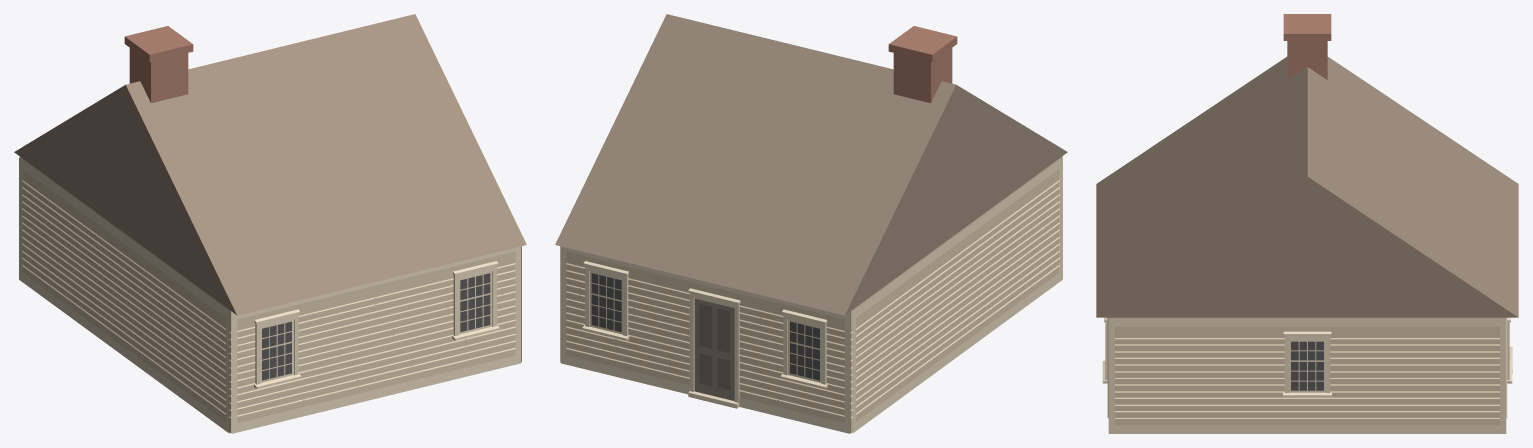
File: recon_1835_blk_school_section_tier_119_d4_03__inferred_1835.glb
3 views of the same model, side by side, from view 1: azimuth 30°, elevation 25°; view 2: azimuth 150°, elevation 25°; view 3: azimuth 270°, elevation 25° (orthographic). The views are drawn at different scales.
Visible parts, largest first — view 1: recon_1835_blk_school_section_tier_119_d4_03__inferred_1835; view 2: recon_1835_blk_school_section_tier_119_d4_03__inferred_1835; view 3: recon_1835_blk_school_section_tier_119_d4_03__inferred_1835.
Part boxes in pixels (x1,y1,x2,y2): recon_1835_blk_school_section_tier_119_d4_03__inferred_1835: [14, 14, 526, 433]; recon_1835_blk_school_section_tier_119_d4_03__inferred_1835: [555, 14, 1067, 433]; recon_1835_blk_school_section_tier_119_d4_03__inferred_1835: [1096, 14, 1518, 433].
Size of the model in its own units: 6.68 by 6.63 by 8.72.
